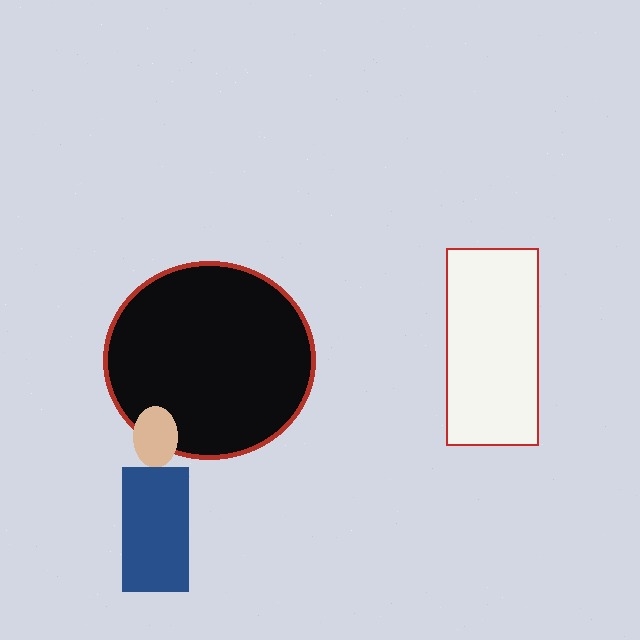book: (446, 248, 538, 445)
open_manhole: (103, 261, 315, 459)
person: (90, 406, 221, 591)
